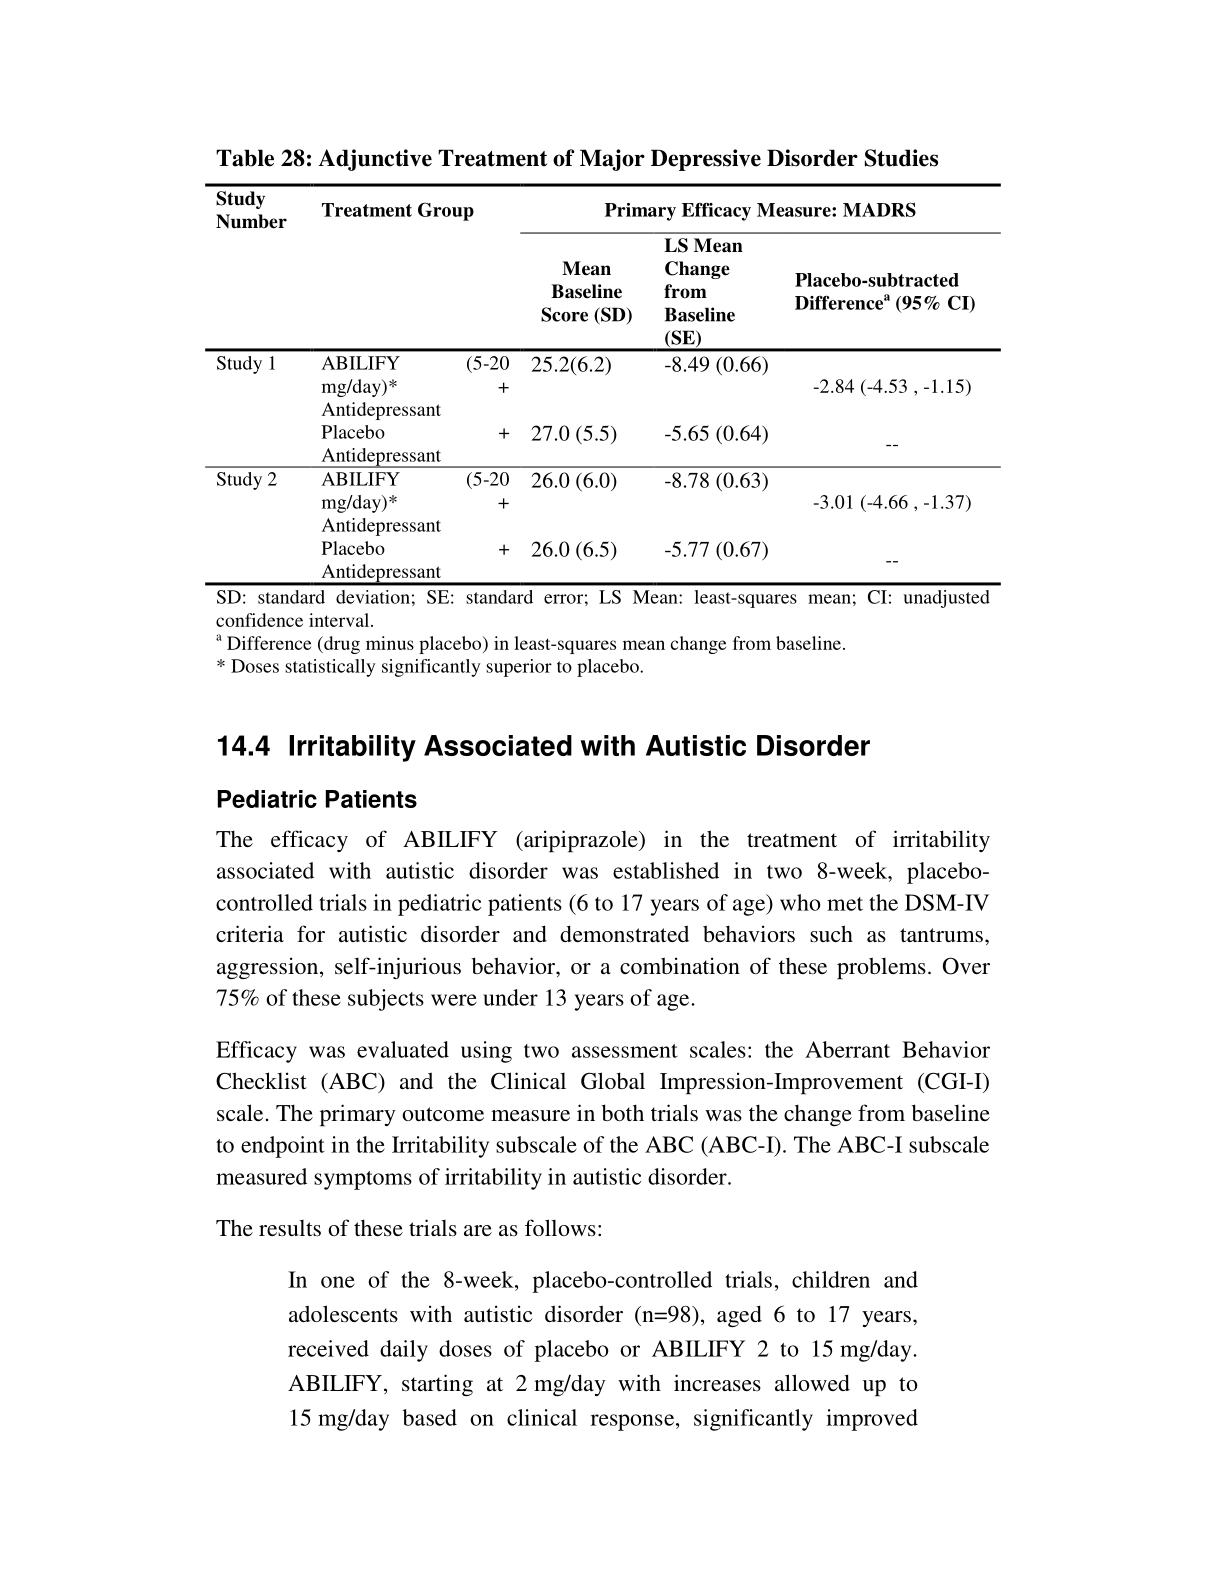partial_lined_merged_cells: (203, 183, 1002, 586)
